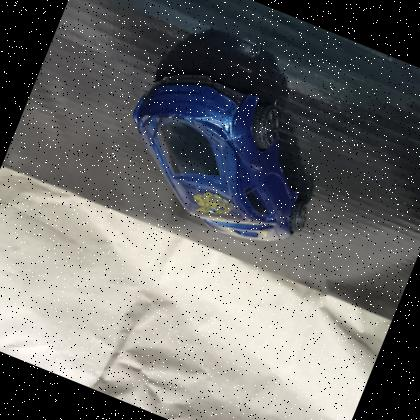Car: (132, 70, 306, 240)
